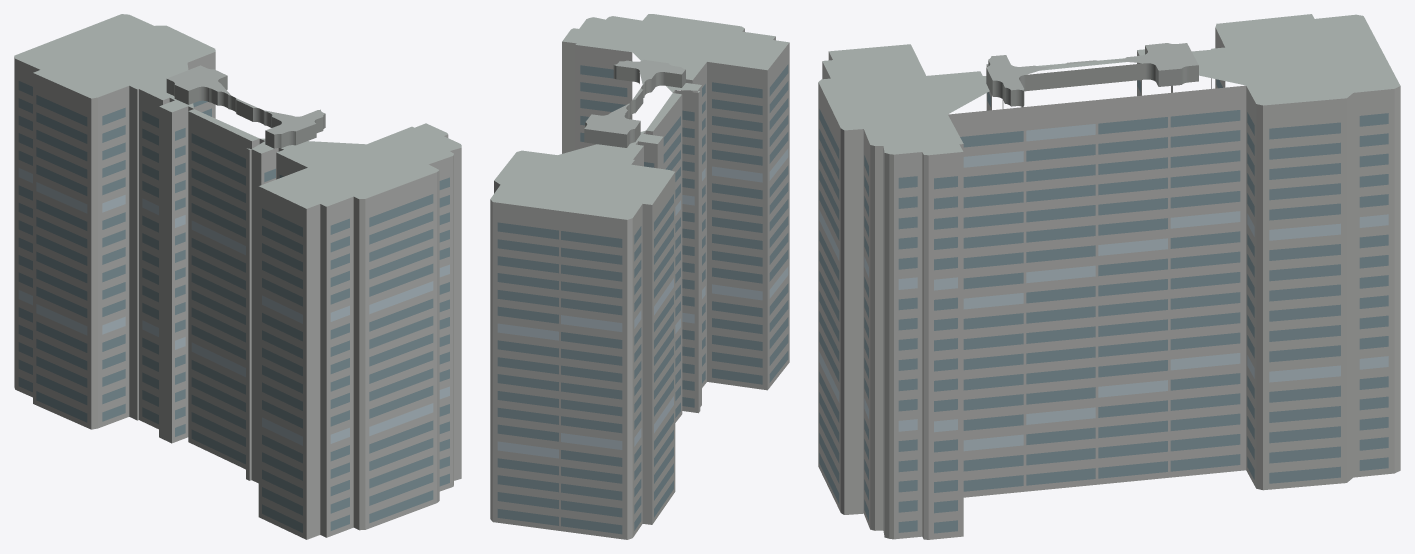
File: apt-a13510001.glb
3 renders of one model, left to right at view 1: azimuth 30°, elevation 25°; view 2: azimuth 150°, elevation 25°; view 3: azimuth 270°, elevation 25°, orthographic. The views are drawn at different scales.
Parts seen in each view (by area): view 1: apt-a13510001; view 2: apt-a13510001; view 3: apt-a13510001.
Boxes of the visible parts, x1,y1,x2,y2 form: apt-a13510001: [14, 14, 461, 539]; apt-a13510001: [490, 14, 789, 539]; apt-a13510001: [818, 14, 1400, 539].
Size of the model in its own units: 44.57 by 59 by 77.62.
